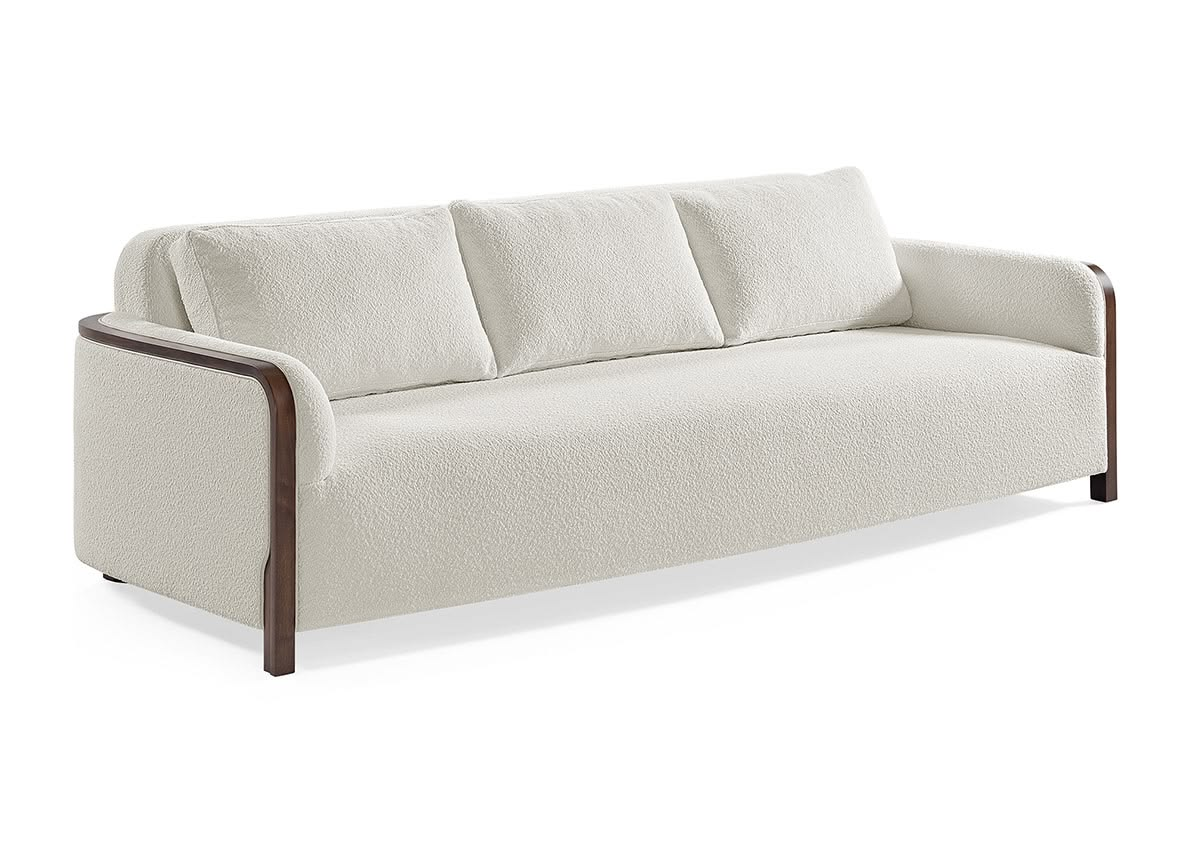3seatersofa: (74, 168, 1118, 674)
backrest: (116, 208, 411, 330)
leftarmrest: (895, 239, 1110, 371)
leg: (1081, 263, 1117, 501)
pillow: (166, 168, 912, 397)
rightarmrest: (75, 338, 270, 626), (103, 313, 334, 484)
seat: (297, 328, 1114, 628)
